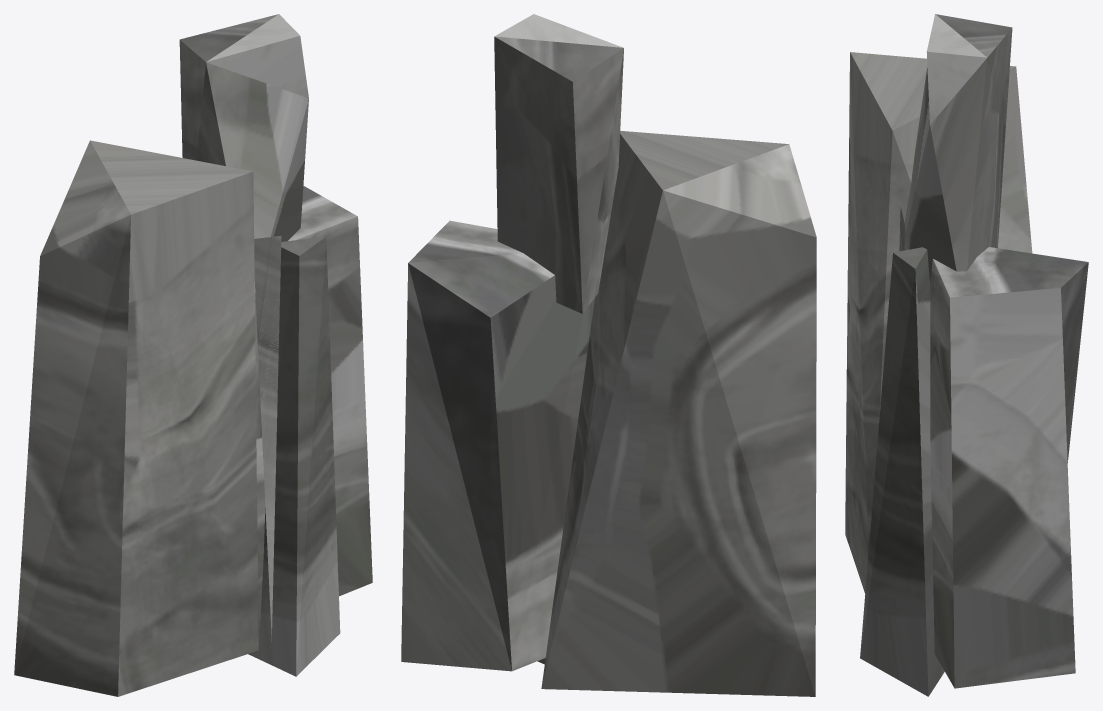
File: 4_R_Grande_LOD_1.fbx
The picture shows the model from 3 angles, left to right: view 1: azimuth 30°, elevation 25°; view 2: azimuth 150°, elevation 25°; view 3: azimuth 270°, elevation 25°; orthographic projection. The views are drawn at different scales.
Parts seen in each view (by area): view 1: 4_R_Grande_LOD_1; view 2: 4_R_Grande_LOD_1; view 3: 4_R_Grande_LOD_1.
Boxes of the visible parts, bbox=[...] form: 4_R_Grande_LOD_1: bbox=[14, 14, 372, 696]; 4_R_Grande_LOD_1: bbox=[401, 14, 816, 696]; 4_R_Grande_LOD_1: bbox=[845, 14, 1088, 696].
Size of the model in its own units: 1173 by 1876 by 663.
